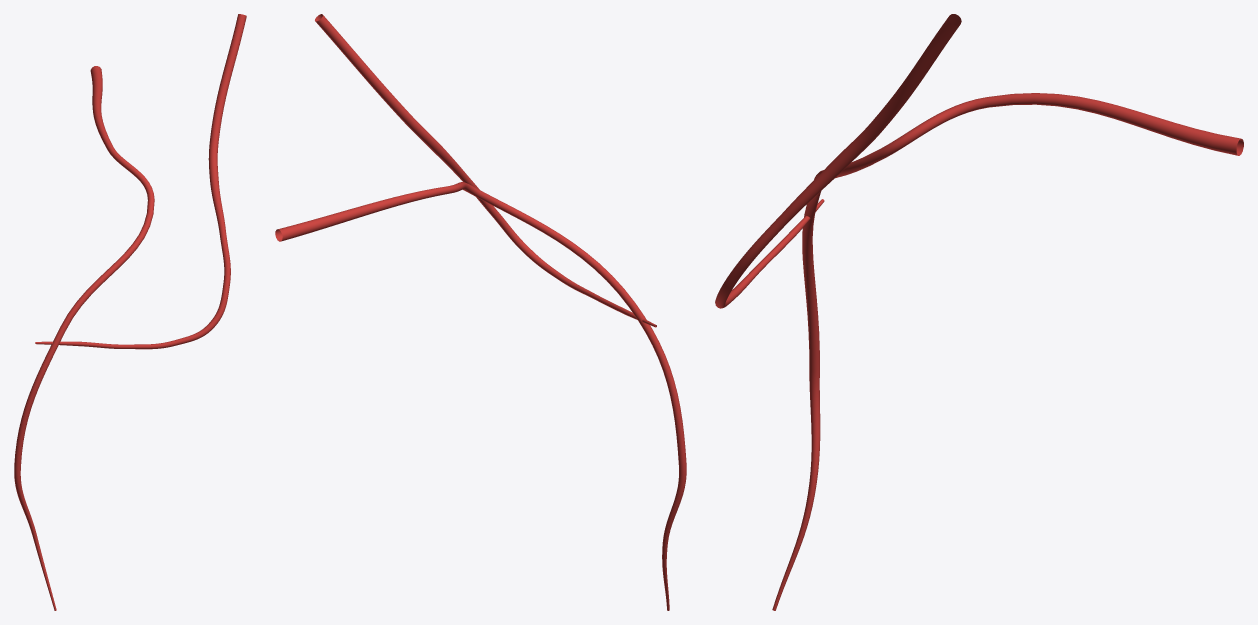
3 renders of one model, left to right at view 1: azimuth 30°, elevation 25°; view 2: azimuth 150°, elevation 25°; view 3: azimuth 270°, elevation 25°, orthographic. The views are drawn at different scales.
Visible parts, largest first — view 1: 左侧咽升动脉; view 2: 左侧咽升动脉; view 3: 左侧咽升动脉.
Part boxes in pixels (x1,y1,x2,y2): 左侧咽升动脉: (14, 14, 246, 610); 左侧咽升动脉: (275, 14, 686, 610); 左侧咽升动脉: (715, 14, 1243, 610).
Size of the model in its own units: 0.0417 by 0.0717 by 0.0439.
